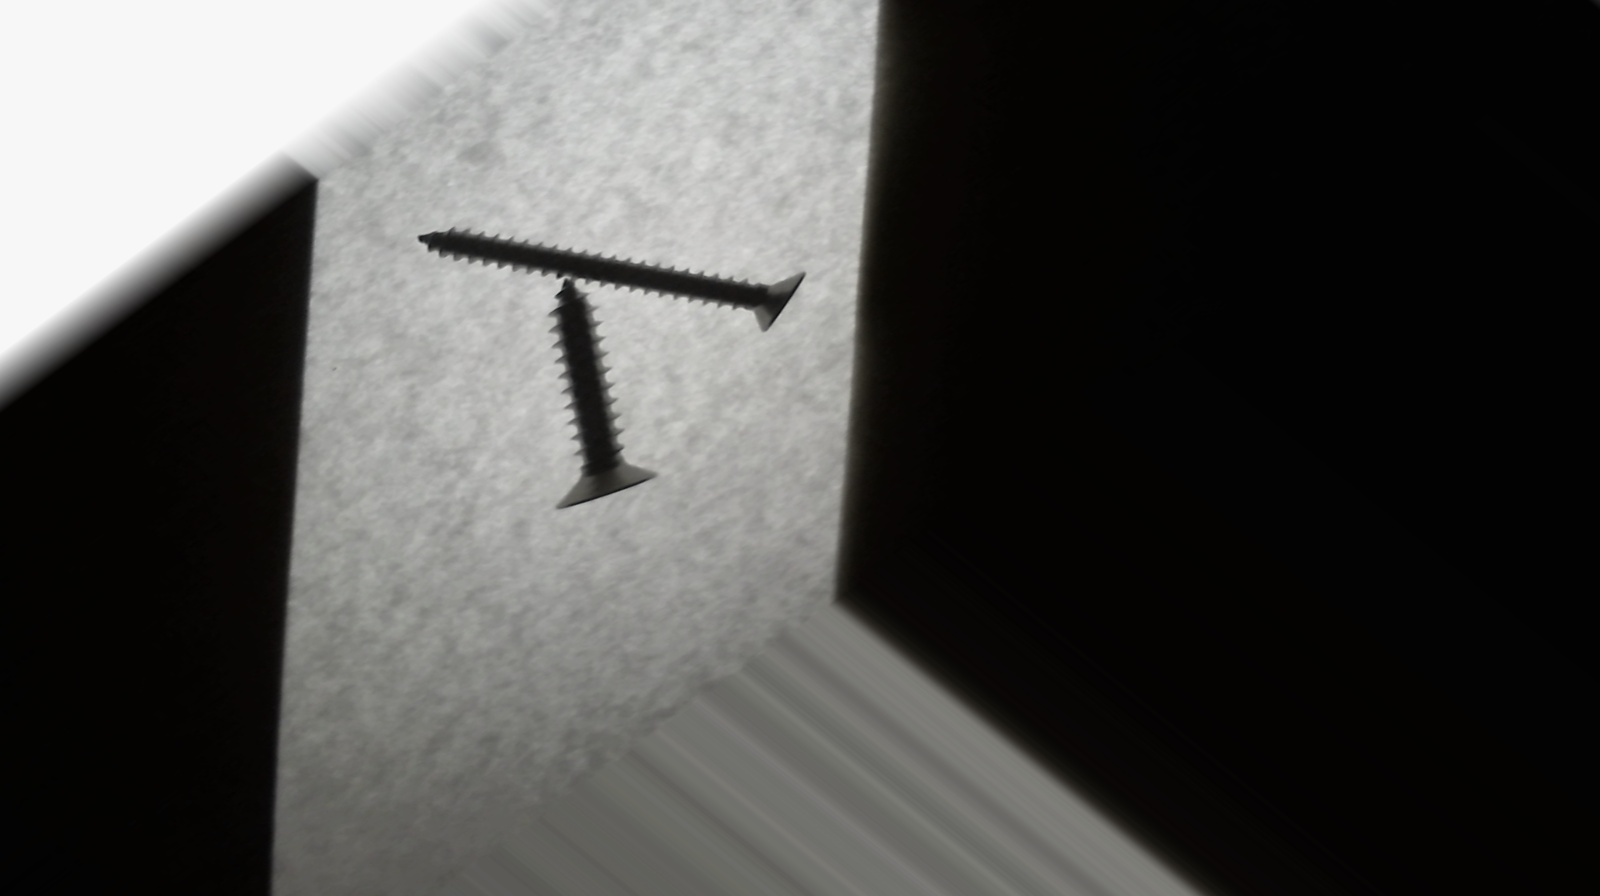S001: (408, 269, 752, 534)
S002: (402, 102, 830, 432)
